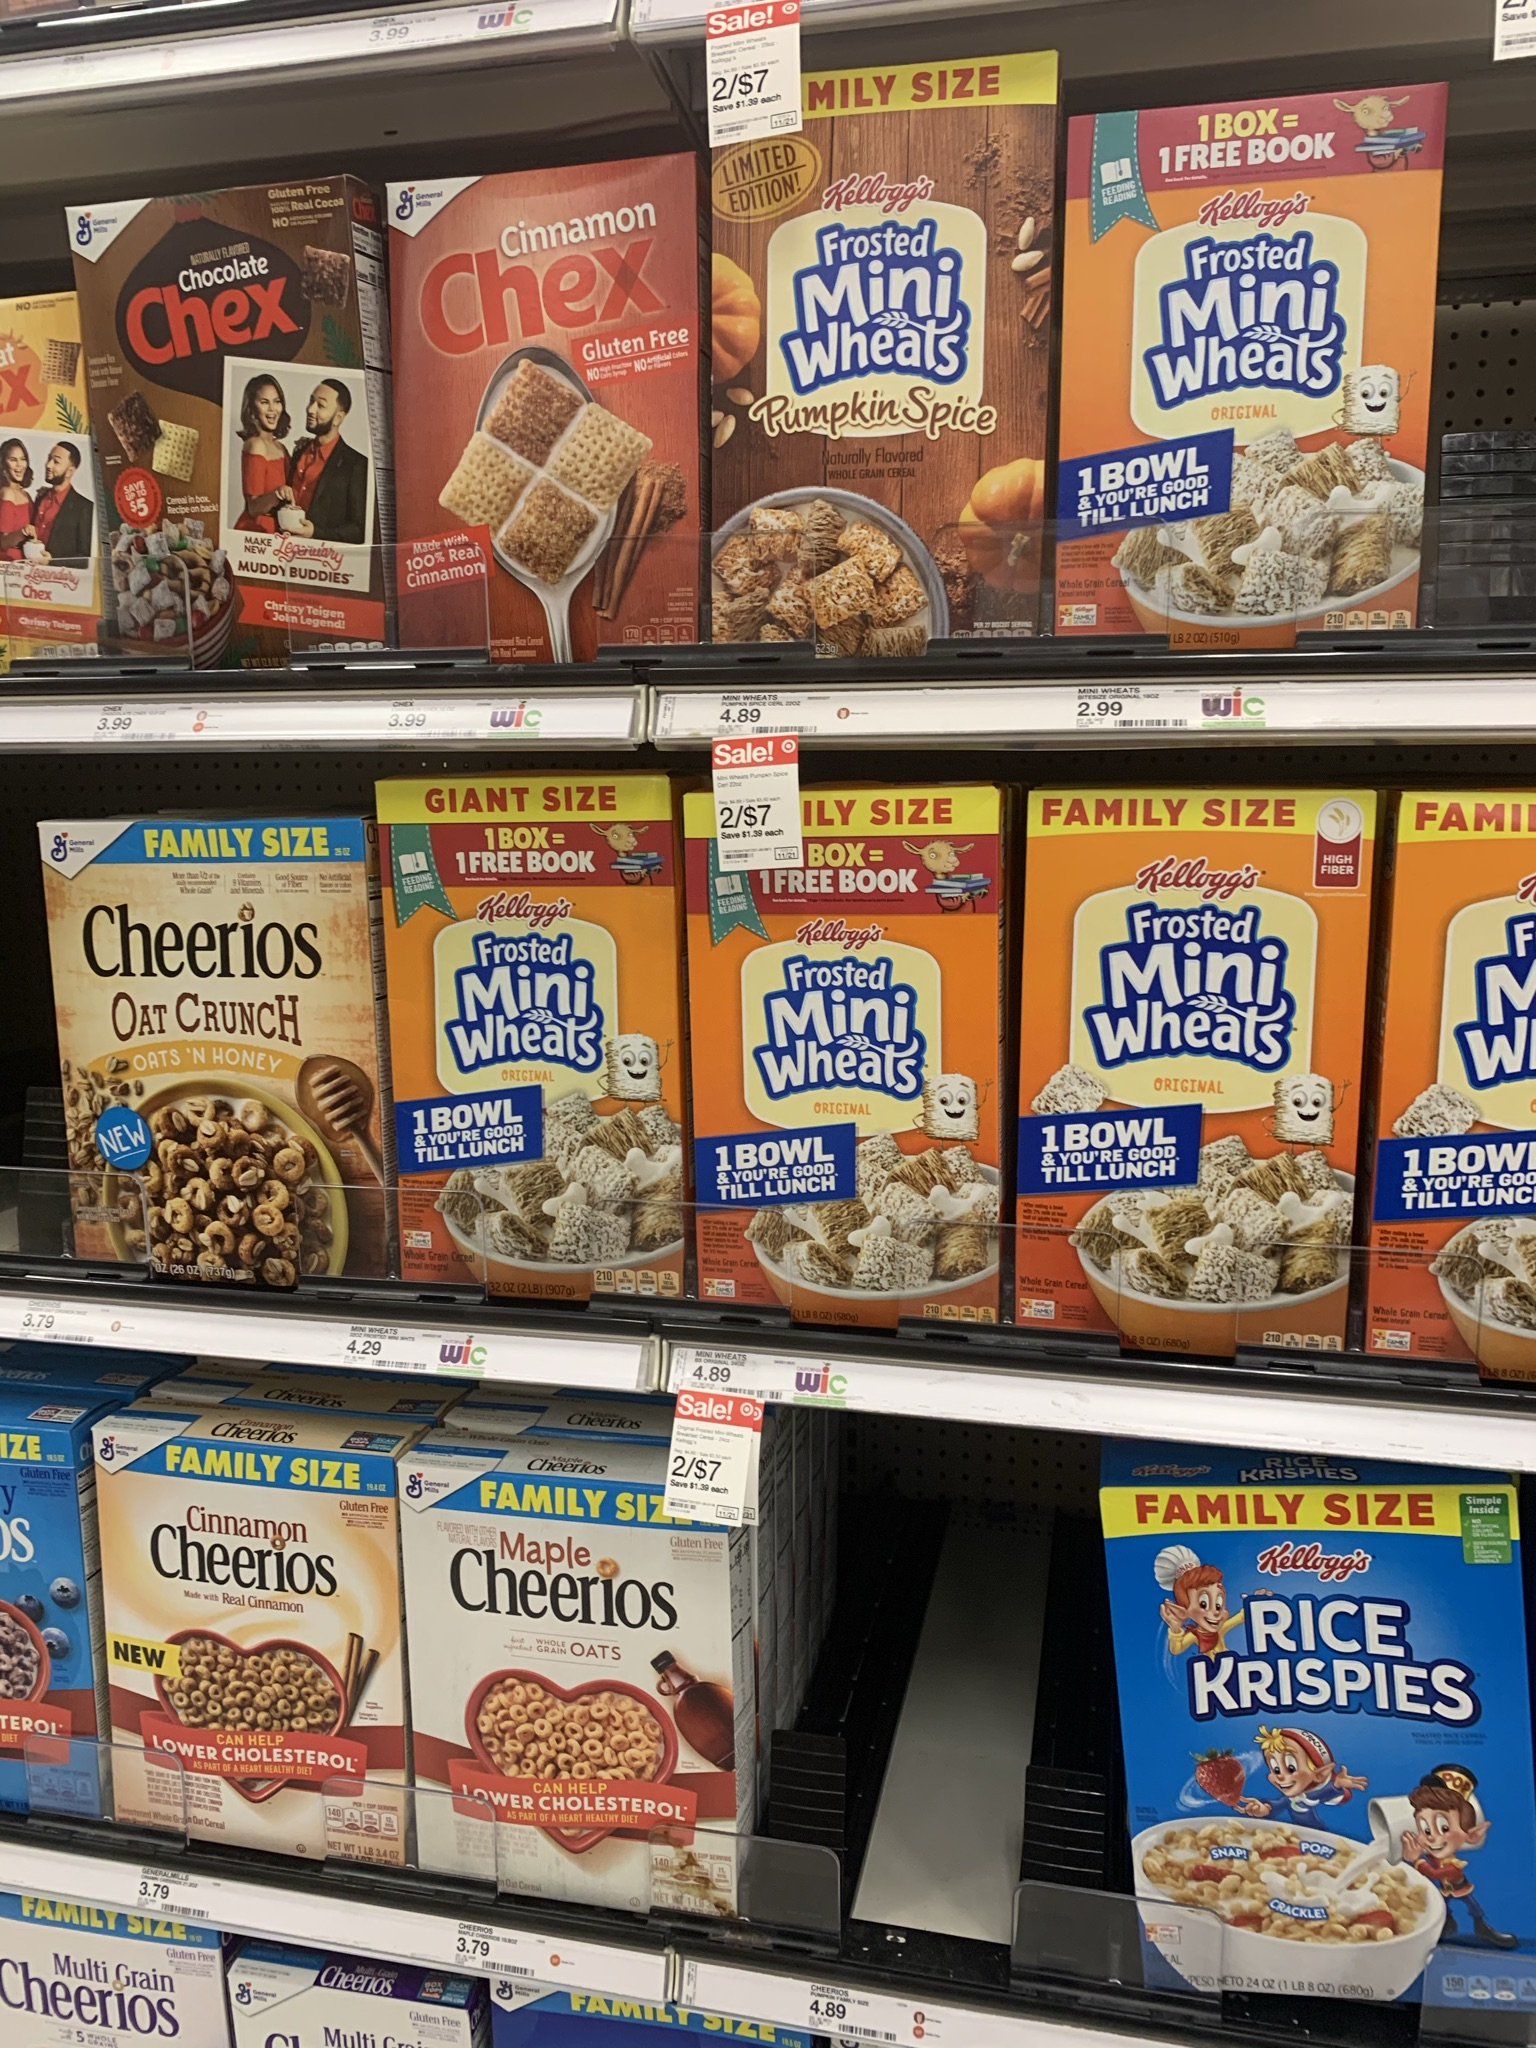box: (1120, 1514, 1536, 1908), (1049, 813, 1352, 1232), (1078, 131, 1418, 497), (387, 797, 691, 1185), (721, 153, 1041, 514), (397, 198, 700, 535), (416, 1498, 726, 1816), (699, 887, 995, 1209), (115, 1447, 382, 1767), (92, 872, 365, 1180), (103, 218, 360, 535), (1391, 819, 1536, 1248)
